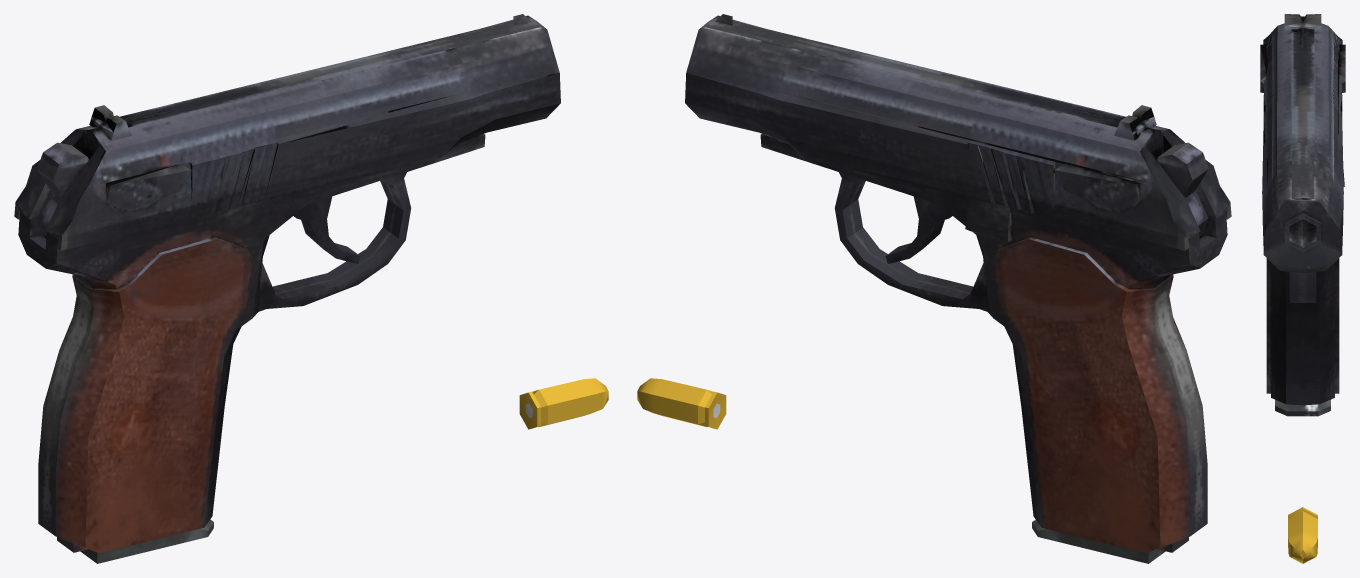
The model's file is разделенный.fbx.
3 views of the same model, side by side, from view 1: azimuth 30°, elevation 25°; view 2: azimuth 150°, elevation 25°; view 3: azimuth 270°, elevation 25° (orthographic). The views are drawn at different scales.
Parts seen in each view (by area): view 1: ствол, затвор, пулька, курок, магазин; view 2: ствол, затвор, пулька, курок, магазин; view 3: затвор, ствол, пулька, магазин.
Part boxes in pixels (bbox=[...]): ствол: bbox=[18, 134, 485, 553]; затвор: bbox=[14, 14, 560, 250]; пулька: bbox=[519, 378, 608, 429]; курок: bbox=[293, 196, 360, 263]; магазин: bbox=[80, 519, 213, 563]; ствол: bbox=[760, 134, 1227, 553]; затвор: bbox=[685, 14, 1231, 250]; пулька: bbox=[637, 378, 726, 429]; курок: bbox=[885, 196, 952, 263]; магазин: bbox=[1032, 519, 1165, 563]; затвор: bbox=[1260, 14, 1345, 273]; ствол: bbox=[1266, 169, 1344, 405]; пулька: bbox=[1288, 507, 1317, 563]; магазин: bbox=[1275, 399, 1330, 416].
Bounding box in the file's own units: 23.84 × 17.19 × 3.68.
